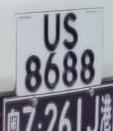6: (43, 48, 62, 99)
8: (23, 52, 44, 99), (61, 47, 79, 96), (79, 46, 97, 91)
S: (61, 9, 81, 52)
U: (41, 10, 63, 54)
